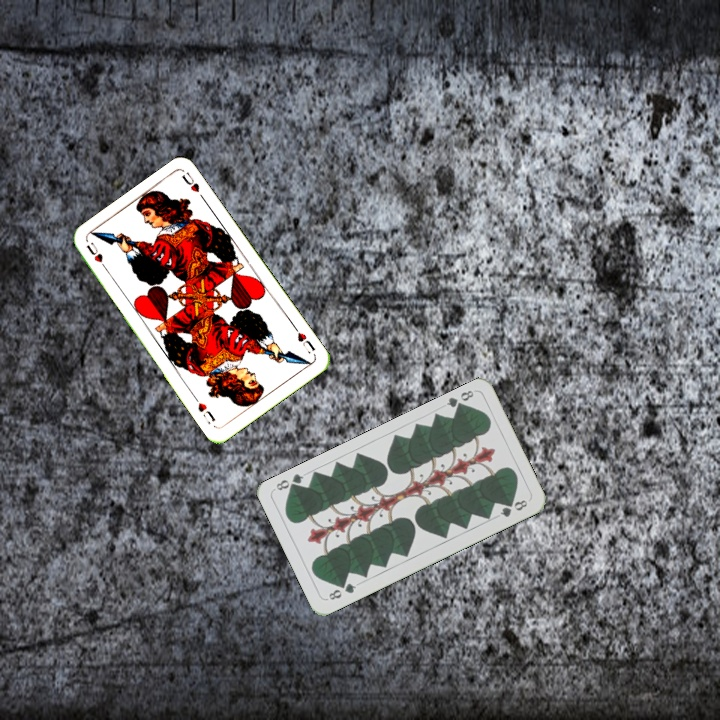G8: (442, 386, 476, 413), (324, 579, 359, 603)
HU: (82, 238, 111, 274), (290, 322, 318, 354)
